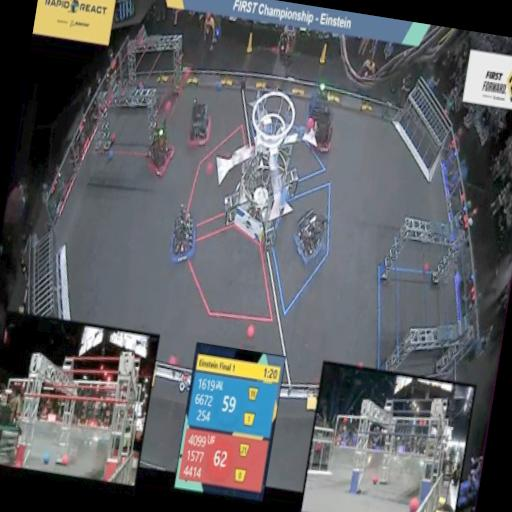robot: (288, 200, 333, 272), (162, 198, 204, 272), (140, 115, 182, 185), (182, 94, 218, 154), (302, 75, 336, 128), (306, 108, 340, 156)
